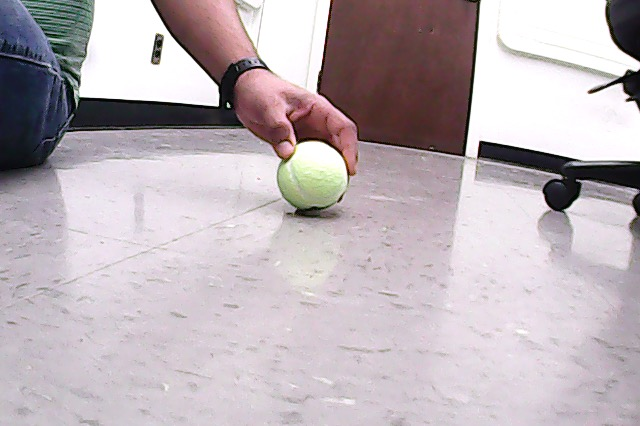ball: (277, 139, 350, 214)
